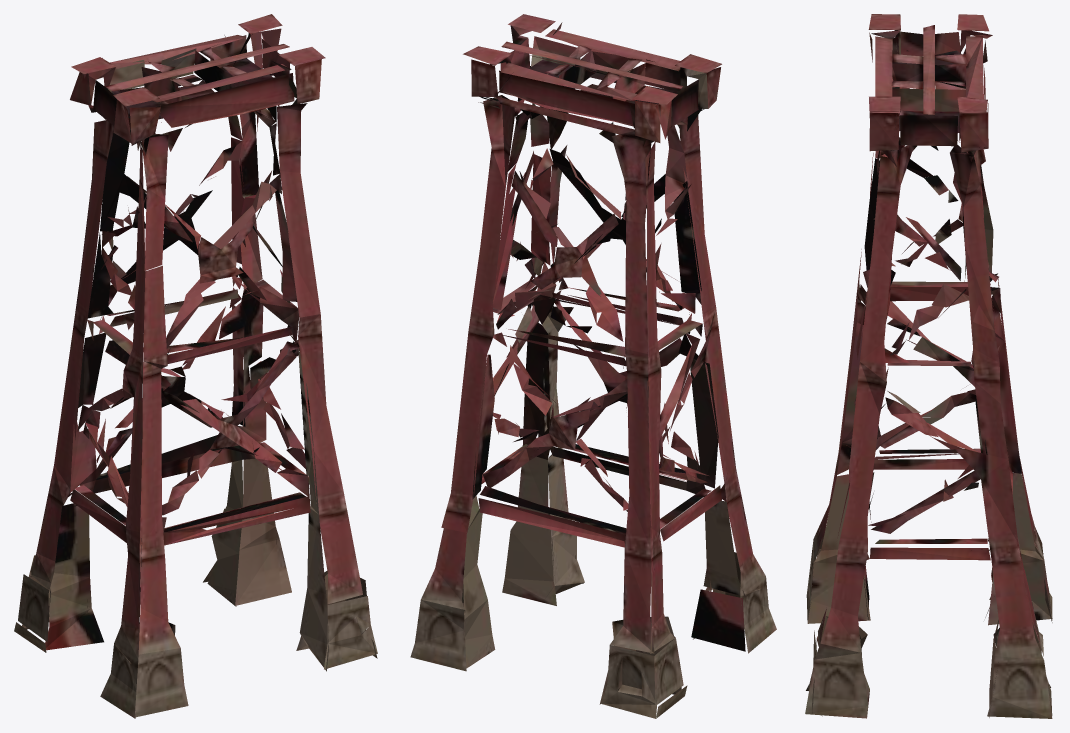
The model's file is park_coaster_support_1117.glb.
3 renders of one model, left to right at view 1: azimuth 30°, elevation 25°; view 2: azimuth 150°, elevation 25°; view 3: azimuth 270°, elevation 25°, orthographic.
Visible parts, largest first — view 1: world; view 2: world; view 3: world.
Boxes of the visible parts, x1,y1,x2,y2 form: world: (14, 14, 377, 718); world: (410, 14, 776, 718); world: (805, 14, 1052, 718).
Bounding box in the file's own units: 0.4512 × 1 × 0.3814.
Materials: 1 (1 with a texture image).
